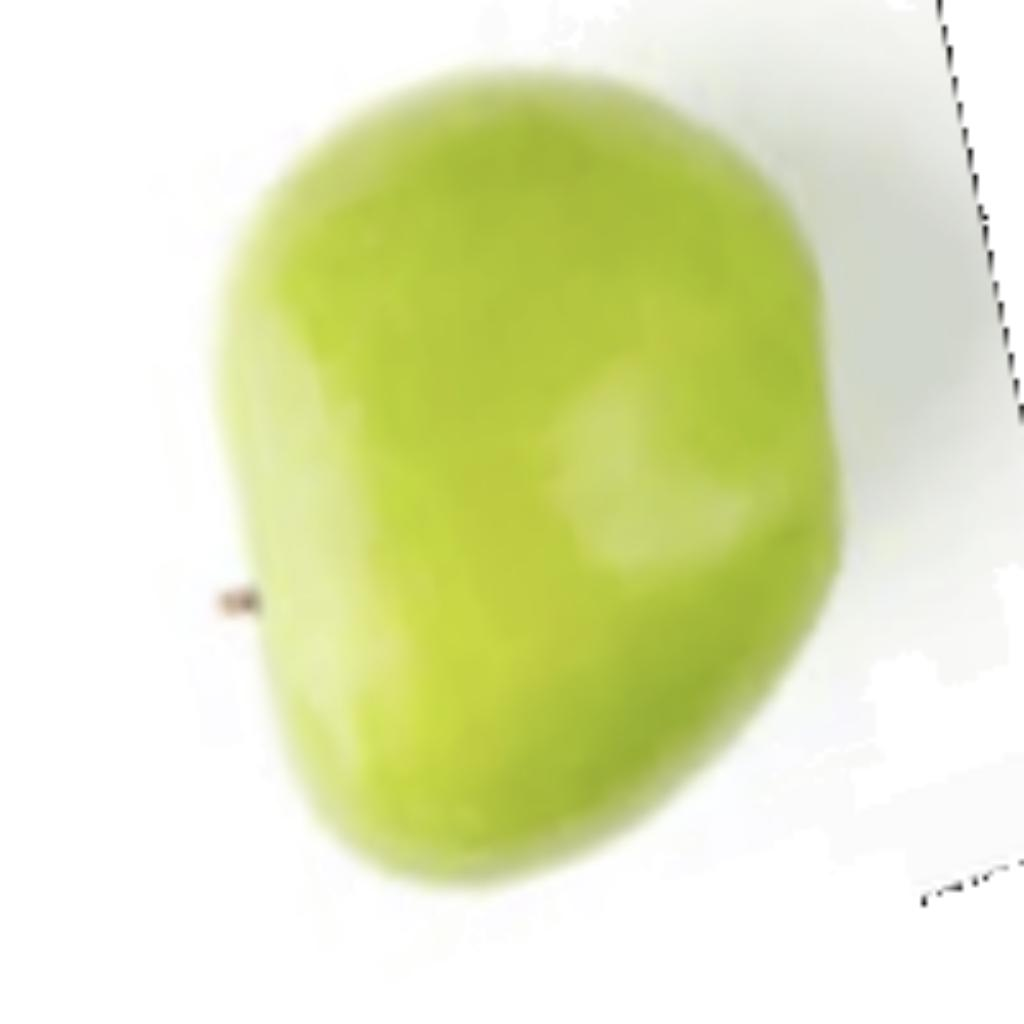apple: (200, 0, 855, 901)
